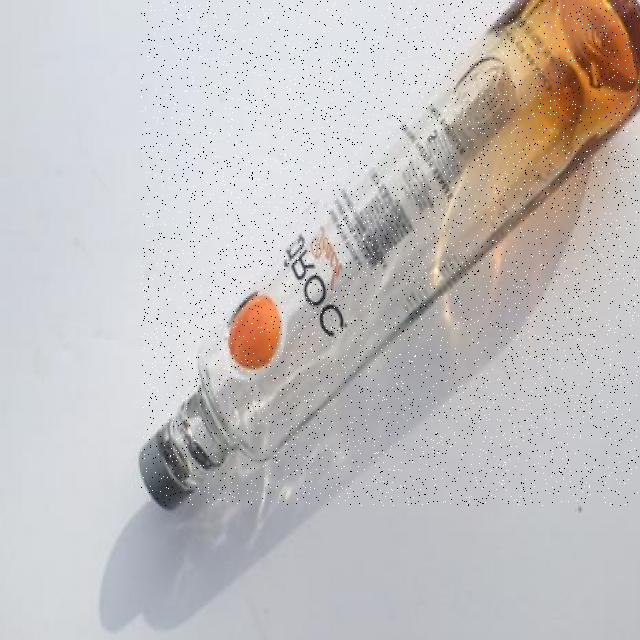glass: (142, 0, 640, 506)
